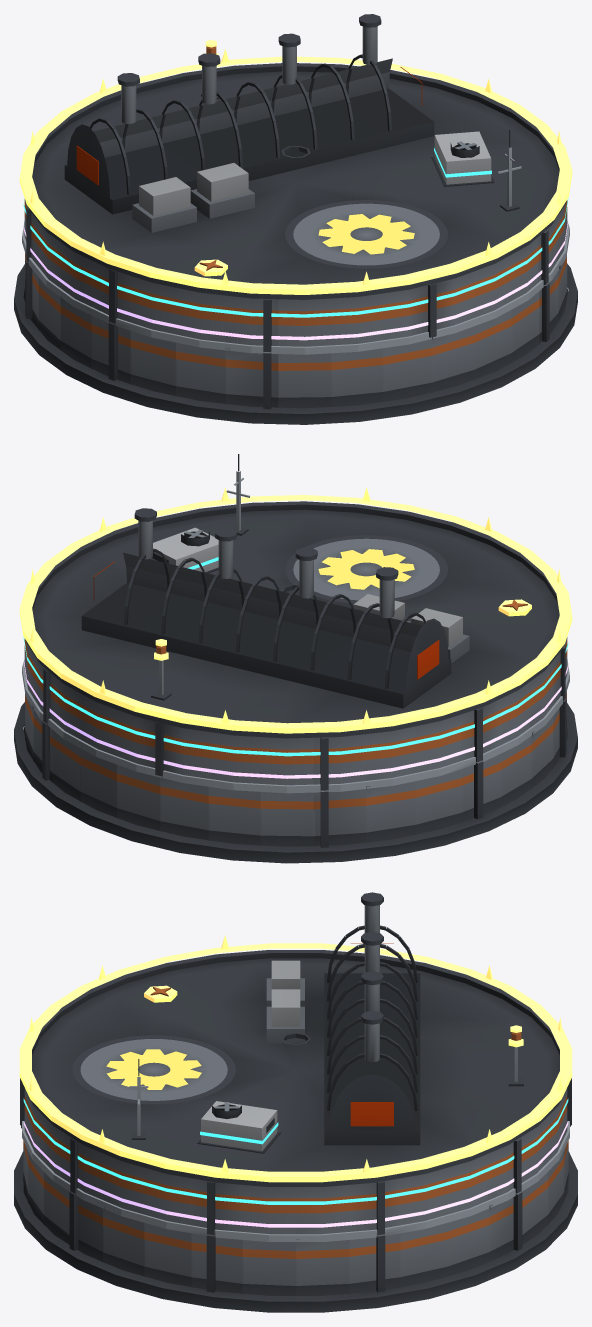
File: ceramics_kiln_s_far.glb
The picture shows the model from 3 angles, top to bottom: view 1: azimuth 30°, elevation 25°; view 2: azimuth 150°, elevation 25°; view 3: azimuth 270°, elevation 25°; orthographic projection.
Parts seen in each view (by area): view 1: Roof, Base, L5, L2, L3, L4; view 2: Roof, Base, L5, L2, L3, L4; view 3: Roof, Base, L5, L3, L2, L4.
Boxes of the visible parts, x1=… form: Roof: x1=24, y1=14, x2=567, y2=352; Base: x1=14, y1=253, x2=577, y2=424; L5: x1=19, y1=39, x2=572, y2=294; L2: x1=22, y1=130, x2=569, y2=354; L3: x1=23, y1=131, x2=568, y2=317; L4: x1=23, y1=220, x2=568, y2=340; Roof: x1=24, y1=501, x2=567, y2=790; Base: x1=14, y1=691, x2=577, y2=863; L5: x1=19, y1=487, x2=572, y2=733; L2: x1=22, y1=454, x2=569, y2=793; L3: x1=23, y1=527, x2=568, y2=756; L4: x1=23, y1=658, x2=568, y2=778; Roof: x1=20, y1=892, x2=571, y2=1235; Base: x1=14, y1=1125, x2=577, y2=1312; L5: x1=19, y1=935, x2=572, y2=1182; L3: x1=23, y1=1032, x2=568, y2=1204; L2: x1=22, y1=1059, x2=569, y2=1241; L4: x1=23, y1=1121, x2=568, y2=1227.
Bounding box in the file's own units: 11.74 × 5.35 × 11.74.
